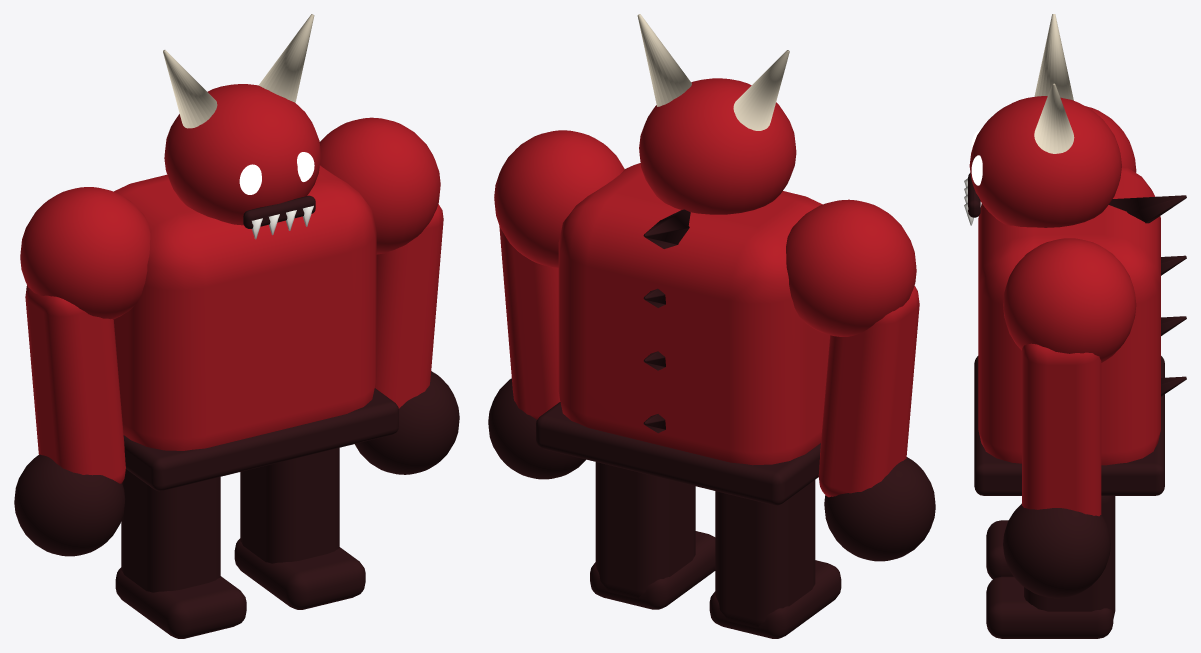
File: vogter.glb
3 renders of one model, left to right at view 1: azimuth 30°, elevation 25°; view 2: azimuth 150°, elevation 25°; view 3: azimuth 270°, elevation 25°, orthographic. The views are drawn at different scales.
Visible parts, largest first — view 1: krop_net, armV_net, benV_net, armH_net, benH_net; view 2: krop_net, armV_net, benV_net, benH_net, armH_net; view 3: krop_net, armH_net, benH_net, benV_net.
Part boxes in pixels (x1,y1,x2,y2): krop_net: (20, 14, 440, 491); armV_net: (14, 285, 125, 556); benV_net: (115, 469, 246, 638); armH_net: (355, 204, 459, 474); benH_net: (234, 448, 365, 609); krop_net: (494, 14, 916, 505); armV_net: (818, 286, 935, 561); benV_net: (709, 480, 841, 638); benH_net: (590, 462, 715, 609); armH_net: (488, 226, 585, 479); krop_net: (964, 14, 1186, 495); armH_net: (1003, 343, 1110, 598); benH_net: (986, 496, 1115, 638); benV_net: (986, 520, 1013, 579).
Size of the model in its own units: 3.04 by 3.81 by 1.4.
